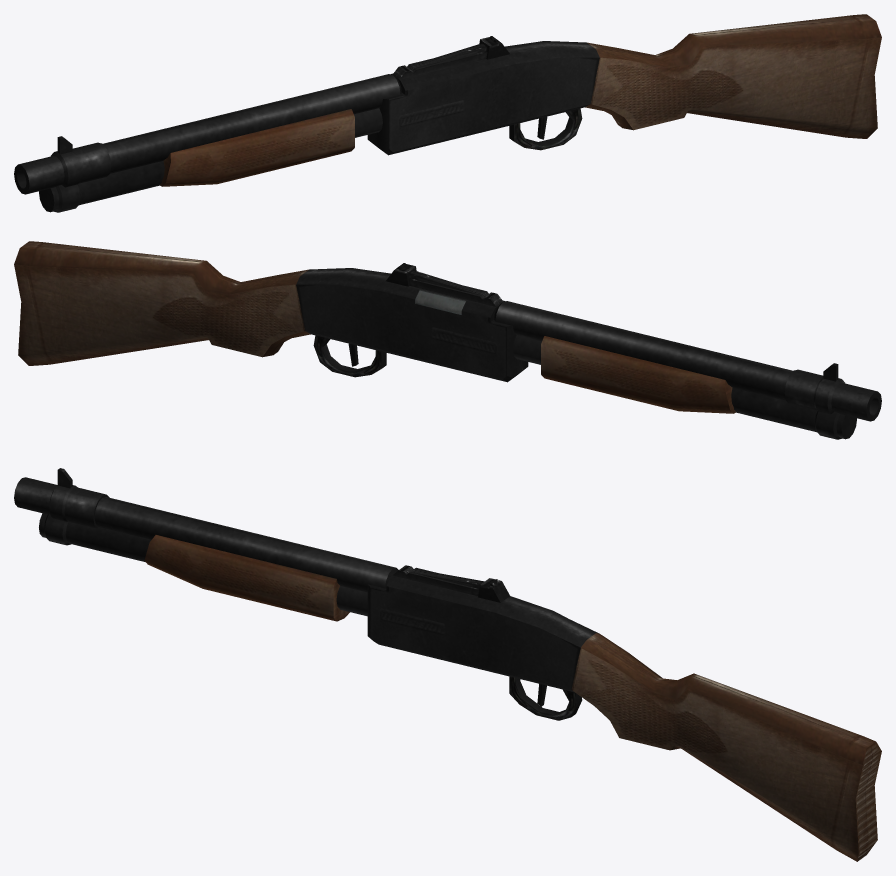
The model's file is shotgun.obj.
3 renders of one model, top to bottom at view 1: azimuth 30°, elevation 25°; view 2: azimuth 150°, elevation 25°; view 3: azimuth 330°, elevation 25°, orthographic.
Visible parts, largest first — view 1: Dakota; view 2: Dakota; view 3: Dakota.
Part boxes in pixels (bbox=[...]): Dakota: bbox=[14, 14, 881, 212]; Dakota: bbox=[14, 241, 881, 439]; Dakota: bbox=[14, 468, 881, 861].
Size of the model in its own units: 32.53 by 7.08 by 1.42.
Materials: 1 (1 with a texture image).
